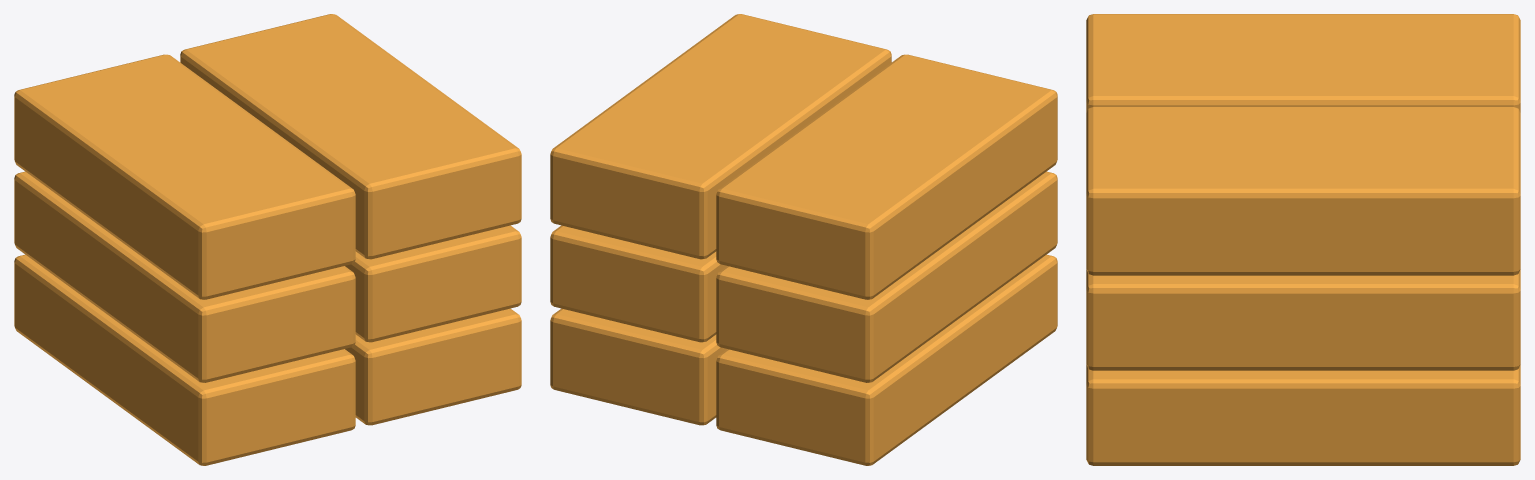
File: brick.glb
The picture shows the model from 3 angles, left to right: view 1: azimuth 30°, elevation 25°; view 2: azimuth 150°, elevation 25°; view 3: azimuth 270°, elevation 25°; orthographic projection. The views are drawn at different scales.
Parts seen in each view (by area): view 1: Destructible brick.004, Destructible brick.005, Destructible brick.002, Destructible brick, Destructible brick.003, Destructible brick.001; view 2: Destructible brick.004, Destructible brick.005, Destructible brick.002, Destructible brick, Destructible brick.003, Destructible brick.001; view 3: Destructible brick.005, Destructible brick.003, Destructible brick.001, Destructible brick.004.
Part boxes in pixels (x1,y1,x2,y2): Destructible brick.004: [14, 54, 355, 299]; Destructible brick.005: [180, 14, 521, 259]; Destructible brick.002: [14, 171, 355, 382]; Destructible brick: [14, 254, 355, 465]; Destructible brick.003: [345, 225, 521, 342]; Destructible brick.001: [345, 308, 521, 425]; Destructible brick.004: [716, 54, 1057, 299]; Destructible brick.005: [550, 14, 891, 259]; Destructible brick.002: [716, 171, 1057, 382]; Destructible brick: [716, 254, 1057, 465]; Destructible brick.003: [550, 225, 726, 342]; Destructible brick.001: [550, 308, 726, 425]; Destructible brick.005: [1086, 106, 1520, 275]; Destructible brick.003: [1086, 269, 1520, 370]; Destructible brick.001: [1086, 365, 1520, 465]; Destructible brick.004: [1086, 14, 1520, 112].
Size of the model in its own units: 0.895 by 0.64 by 0.91.
